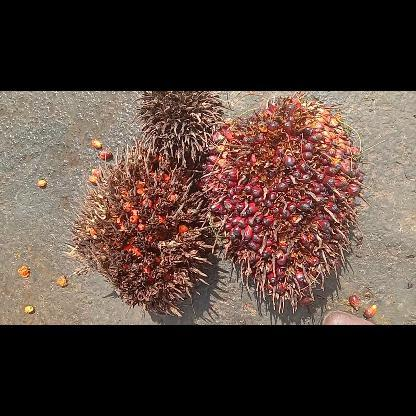Janjang kosong: (132, 90, 226, 168)
TBS masak: (201, 91, 369, 313)
Terlalu masak: (64, 136, 214, 317)
